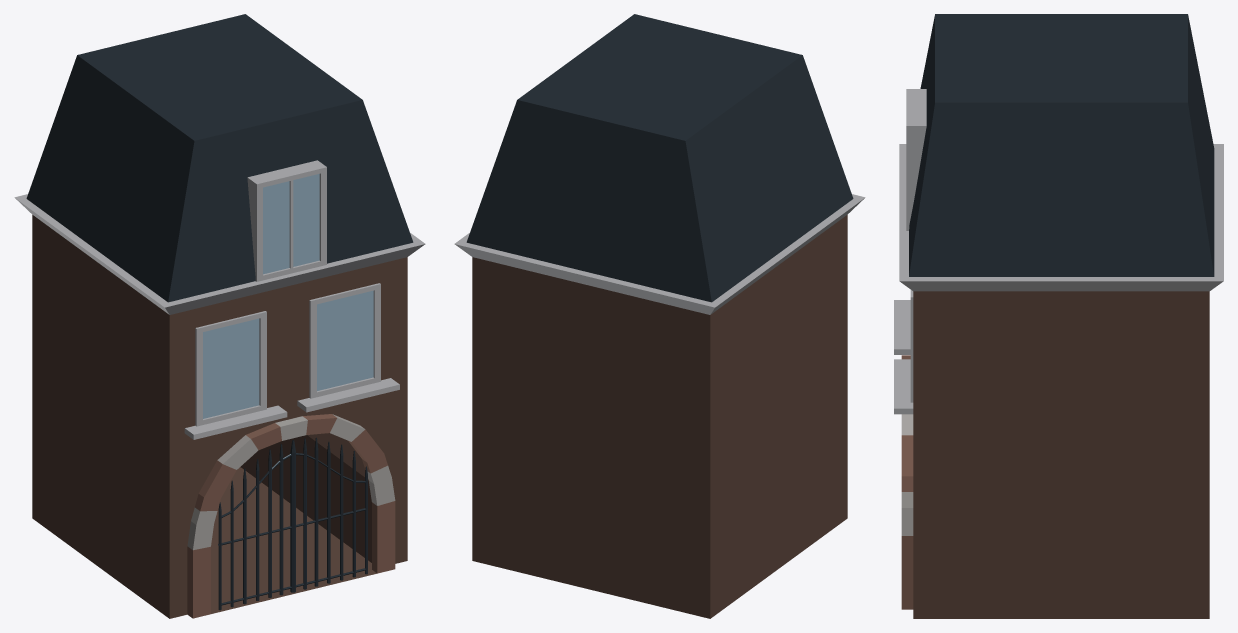
File: House4Level2.fbx
The picture shows the model from 3 angles, left to right: view 1: azimuth 30°, elevation 25°; view 2: azimuth 150°, elevation 25°; view 3: azimuth 270°, elevation 25°; orthographic projection. The views are drawn at different scales.
Parts seen in each view (by area): view 1: House4Lvl2.001; view 2: House4Lvl2.001; view 3: House4Lvl2.001.
Boxes of the visible parts, left/top/right/bottom form: House4Lvl2.001: left=14, top=14, right=425, bottom=618; House4Lvl2.001: left=454, top=14, right=865, bottom=618; House4Lvl2.001: left=894, top=14, right=1223, bottom=618.
Size of the model in its own units: 76.54 by 130 by 77.75.
